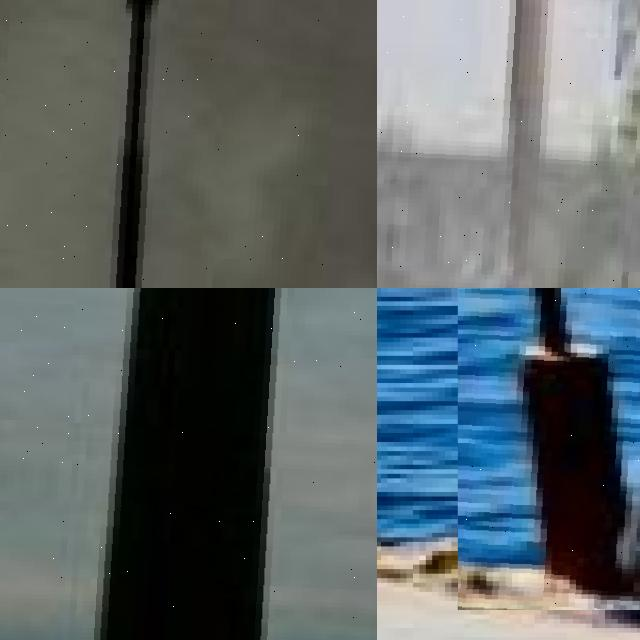street light: (0, 288, 377, 640), (0, 0, 377, 288), (377, 0, 640, 288), (458, 288, 640, 610)
